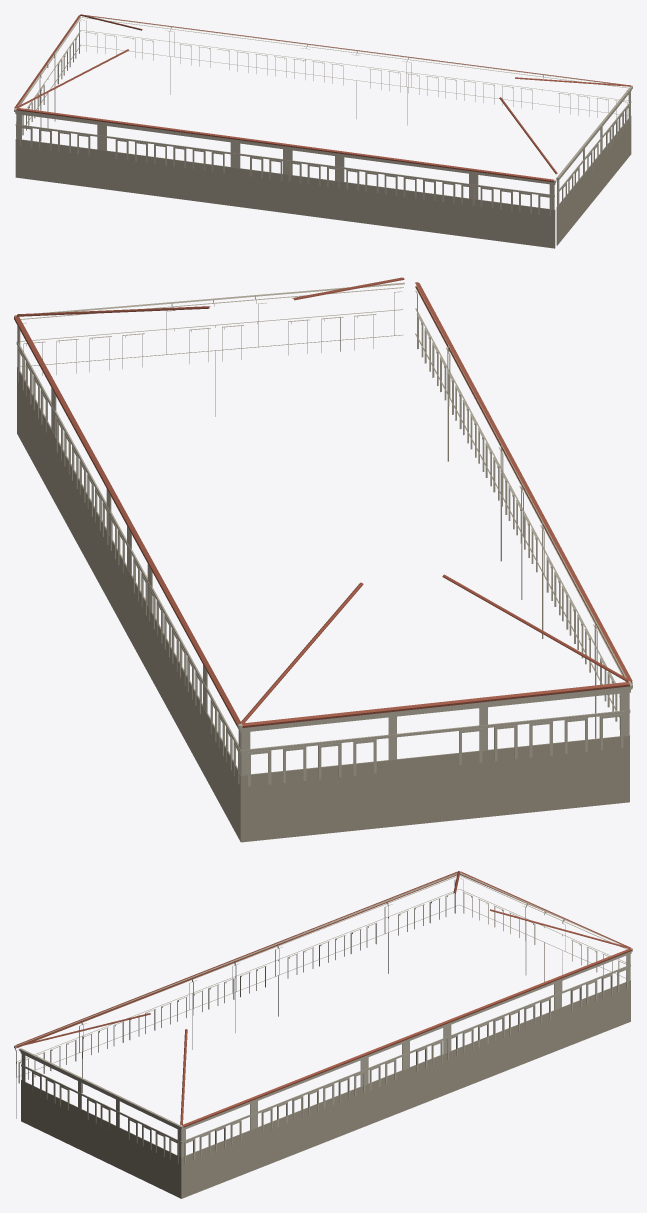
The picture shows the model from 3 angles, top to bottom: view 1: azimuth 30°, elevation 25°; view 2: azimuth 150°, elevation 25°; view 3: azimuth 270°, elevation 25°; orthographic projection. The views are drawn at different scales.
Parts seen in each view (by area): view 1: detail; view 2: detail; view 3: detail.
Part boxes in pixels (x1,y1,x2,y2): detail: [14, 14, 632, 248]; detail: [14, 277, 632, 842]; detail: [14, 871, 632, 1198].
Size of the model in its own units: 69.44 by 14.02 by 71.31.
